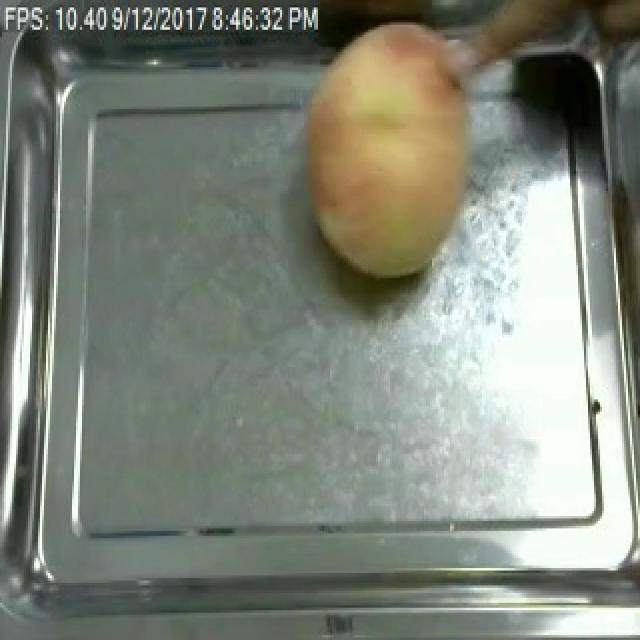Fruit: (290, 10, 492, 290)
